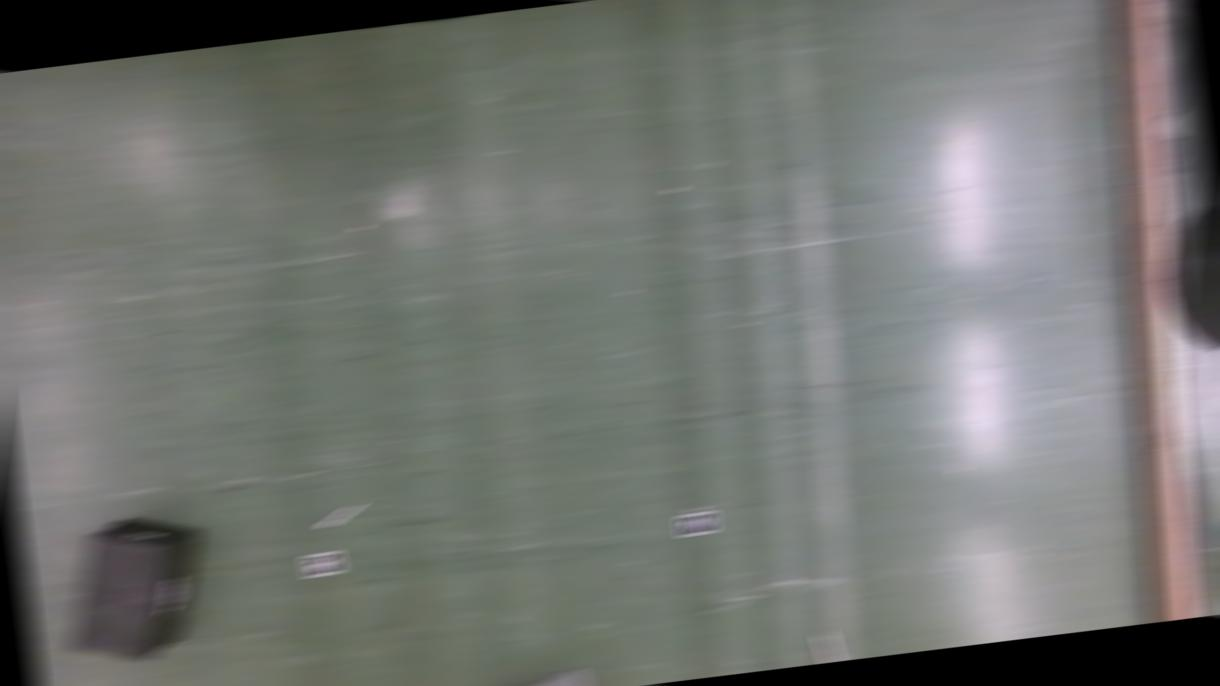probes: (320, 502, 363, 525), (815, 630, 840, 662)
rako: (52, 507, 216, 666)
